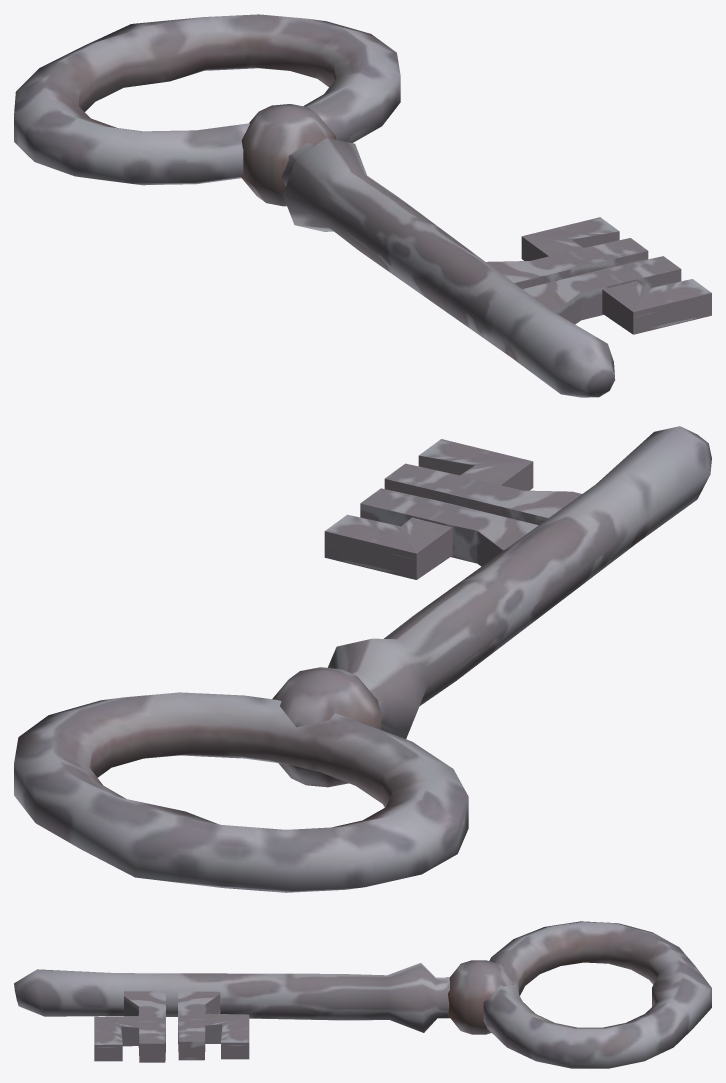
File: Key_Metal.gltf
3 views of the same model, one above another, from view 1: azimuth 30°, elevation 25°; view 2: azimuth 150°, elevation 25°; view 3: azimuth 270°, elevation 25° (orthographic). The views are drawn at different scales.
Parts seen in each view (by area): view 1: Key_Metal; view 2: Key_Metal; view 3: Key_Metal.
Part boxes in pixels (left/top/right/bottom): Key_Metal: left=14, top=14, right=711, bottom=397; Key_Metal: left=14, top=426, right=711, bottom=892; Key_Metal: left=14, top=921, right=711, bottom=1068.
Size of the model in its own units: 0.048 by 0.0124 by 0.111.
Materials: 1 (1 with a texture image).
